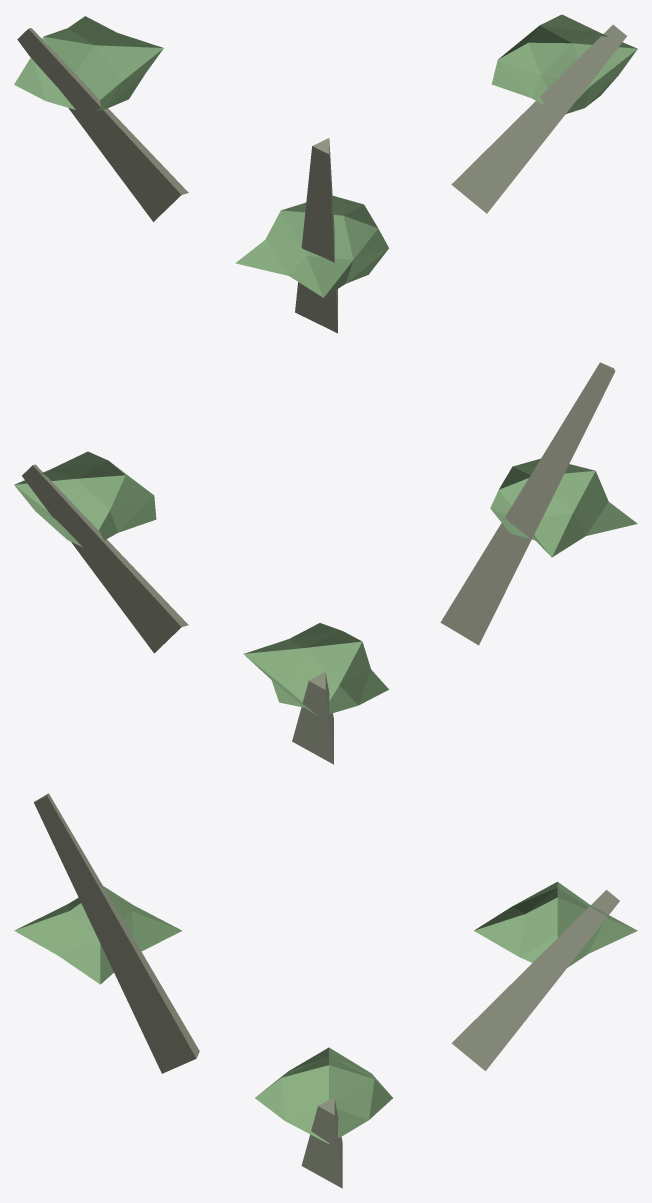
Rendered from bramble_v28.glb.
The picture shows the model from 3 angles, top to bottom: view 1: azimuth 30°, elevation 25°; view 2: azimuth 150°, elevation 25°; view 3: azimuth 270°, elevation 25°; orthographic projection. The views are drawn at different scales.
Visible parts, largest first — view 1: lod0; view 2: lod0; view 3: lod0.
Part boxes in pixels (left/top/right/bottom): lod0: left=14, top=14, right=637, bottom=333; lod0: left=14, top=362, right=637, bottom=764; lod0: left=14, top=793, right=637, bottom=1188.
Size of what is drawn, in the model's own units: 0.5256 by 0.2511 by 0.5674.
